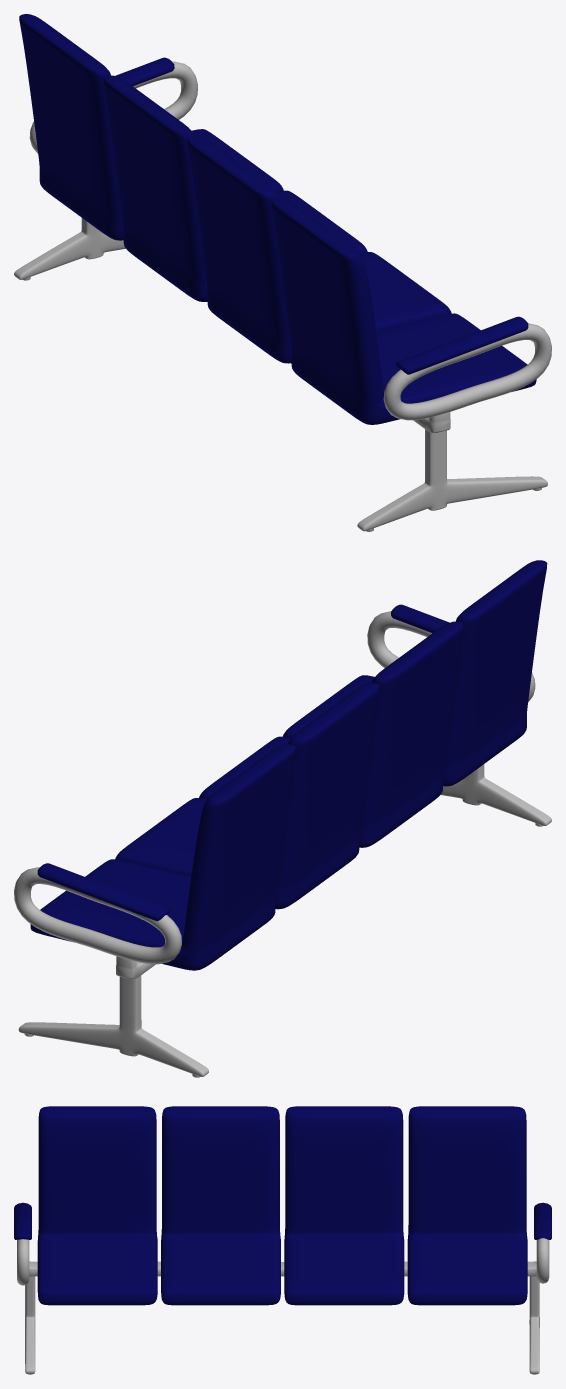
File: airport chairs4.fbx
The picture shows the model from 3 angles, top to bottom: view 1: azimuth 30°, elevation 25°; view 2: azimuth 150°, elevation 25°; view 3: azimuth 270°, elevation 25°; orthographic projection. The views are drawn at different scales.
Visible parts, largest first — view 1: Seats, Chair Arms; view 2: Seats, Chair Arms; view 3: Seats, Chair Arms.
Boxes of the visible parts, x1,y1,x2,y2 form: Seats: (14,14,547,531); Chair Arms: (29,61,551,420); Seats: (18,560,551,1077); Chair Arms: (14,611,535,964); Seats: (14,1106,551,1374); Chair Arms: (17,1238,549,1285).
Bounding box in the file's own units: 76.68 × 103 × 250.
2 materials, 1 textured.
